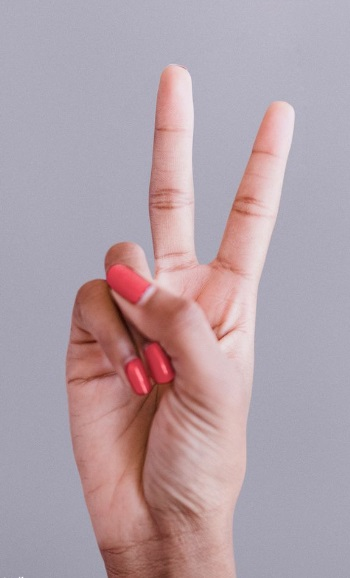peace: (62, 63, 297, 554)
